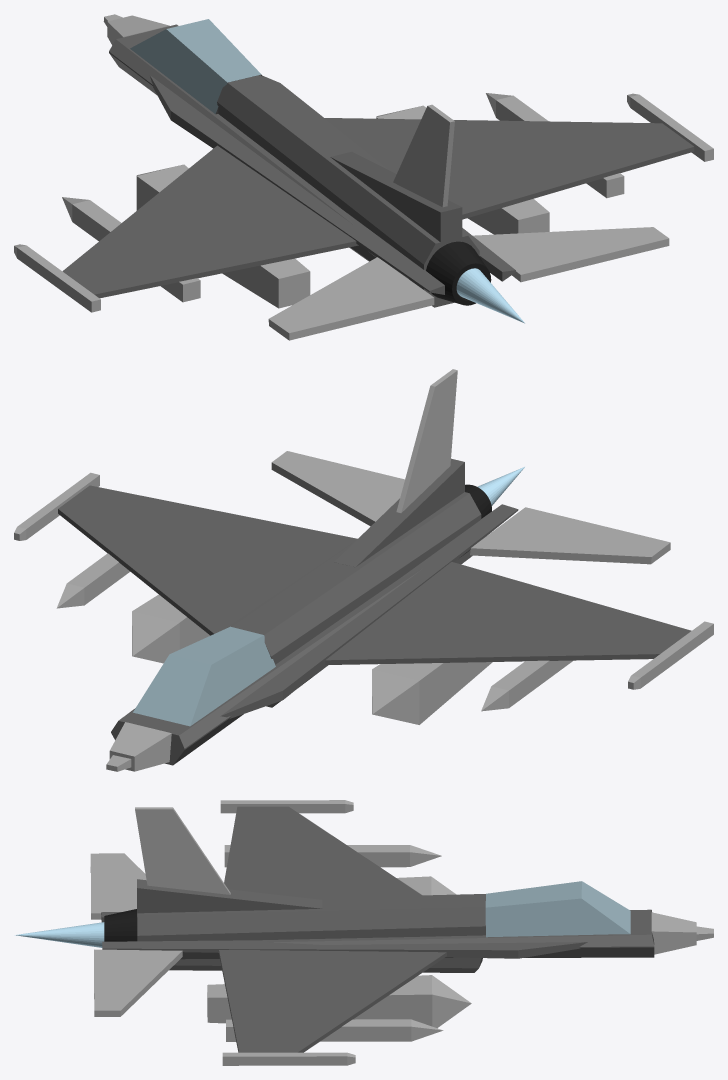
3 views of the same model, one above another, from view 1: azimuth 30°, elevation 25°; view 2: azimuth 150°, elevation 25°; view 3: azimuth 270°, elevation 25° (orthographic). The views are drawn at different scales.
Visible parts, largest first — view 1: Cube, flaps, tail, flame_2; view 2: Cube, flaps, tail; view 3: Cube, flaps, tail, flame_2.
Boxes of the visible parts, <box> form: Cube: <box>14,14,713,312</box>; flaps: <box>268,227,669,340</box>; tail: <box>393,104,454,207</box>; flame_2: <box>456,268,524,323</box>; Cube: <box>14,458,713,771</box>; flaps: <box>271,451,670,564</box>; tail: <box>396,369,457,512</box>; Cube: <box>101,800,713,1065</box>; flaps: <box>90,853,182,1016</box>; tail: <box>135,807,230,894</box>; flame_2: <box>14,922,104,947</box>.
Bounding box in the file's own units: 8.36 × 2.48 × 9.64.
2 materials, 2 textured.
